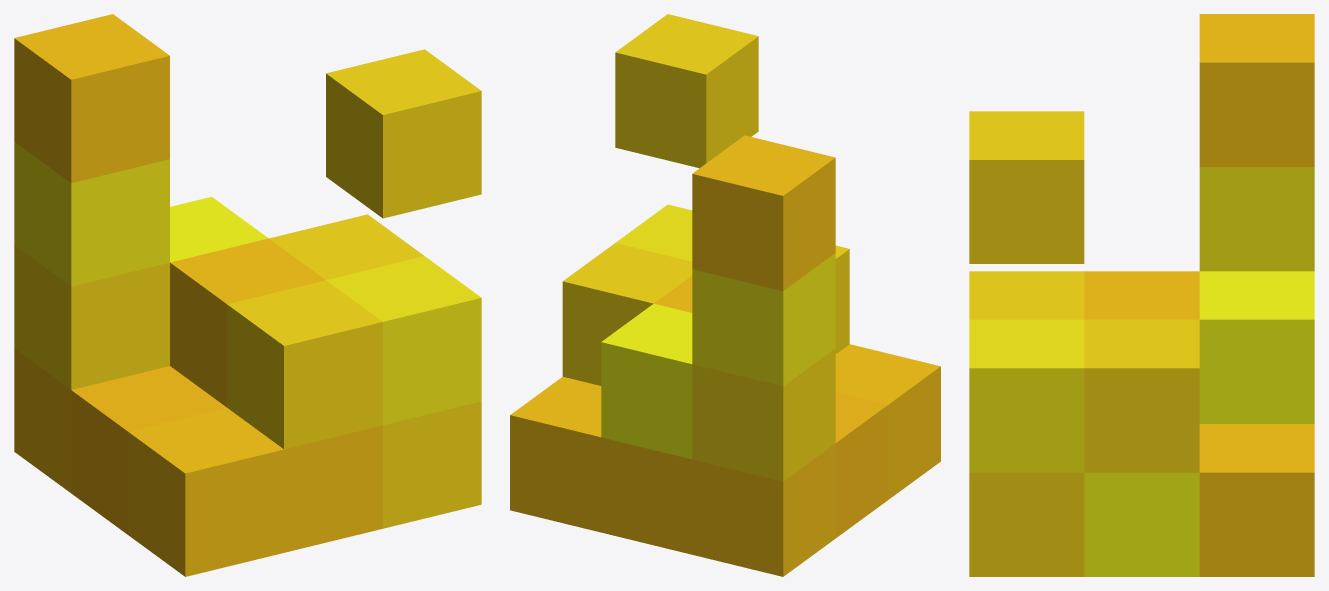
The model's file is wall_torch-10-flames.obj.
3 renders of one model, left to right at view 1: azimuth 30°, elevation 25°; view 2: azimuth 150°, elevation 25°; view 3: azimuth 270°, elevation 25°, orthographic. The views are drawn at different scales.
Visible parts, largest first — view 1: flames; view 2: flames; view 3: flames.
Boxes of the visible parts, bbox=[...] form: flames: bbox=[14, 14, 481, 576]; flames: bbox=[510, 14, 940, 576]; flames: bbox=[969, 14, 1314, 576].
Bounding box in the file's own units: 0.3 × 0.4 × 0.3.
Materials: 1 (1 with a texture image).
